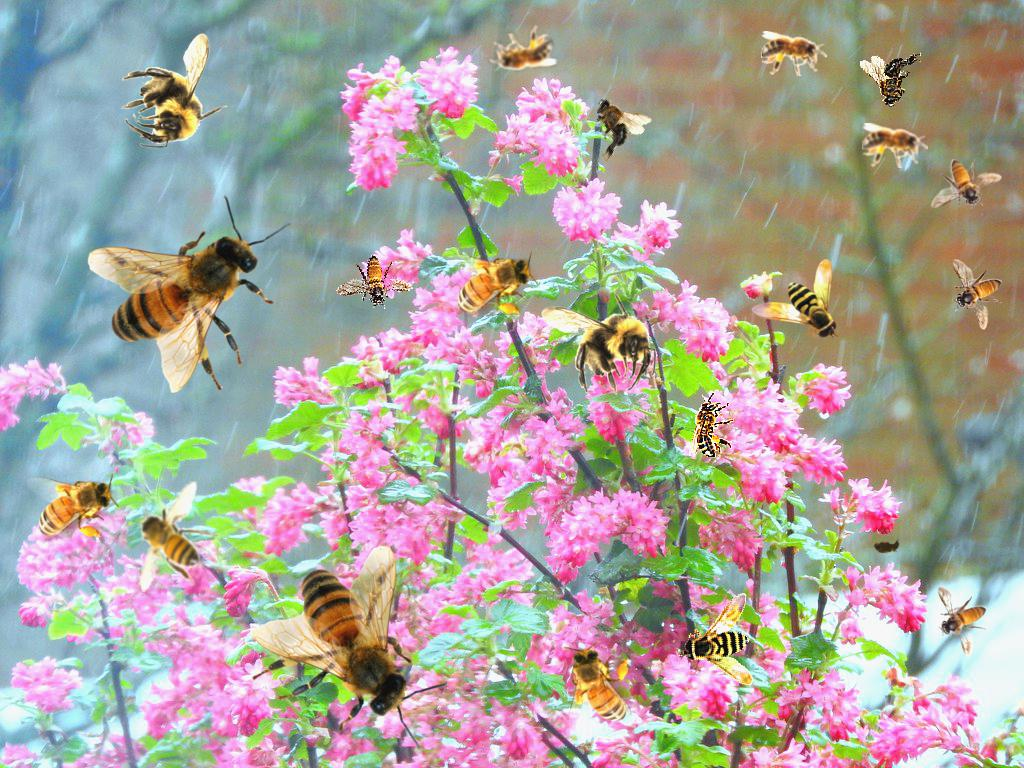Bee: (87, 194, 291, 393), (250, 545, 449, 749), (674, 577, 790, 695), (541, 288, 656, 395), (121, 33, 228, 148), (126, 481, 220, 592), (751, 259, 839, 341), (572, 83, 655, 165), (26, 473, 119, 541), (564, 641, 632, 734), (445, 250, 538, 318), (335, 246, 419, 319), (482, 20, 560, 85), (859, 49, 928, 111), (931, 159, 1002, 209), (952, 259, 1002, 330), (937, 586, 987, 657), (761, 31, 827, 76), (862, 123, 928, 168), (689, 392, 734, 458), (866, 535, 906, 557)
